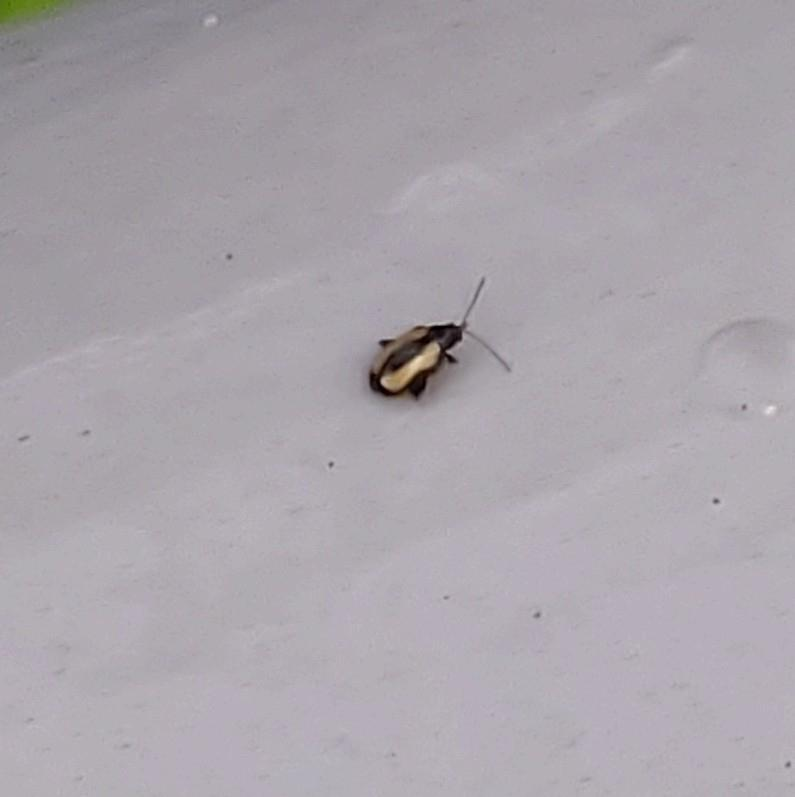flea_beetle: (342, 253, 529, 442)
